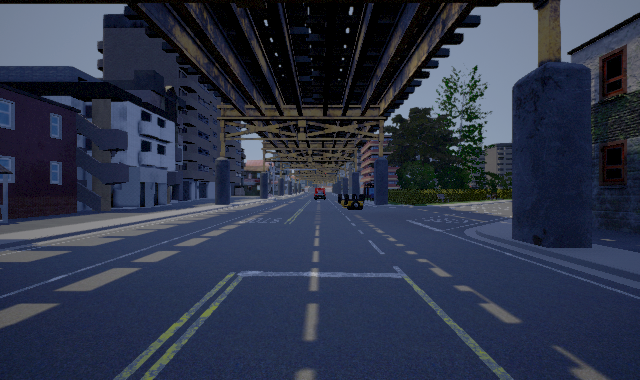vehicle: (338, 194, 365, 210)
